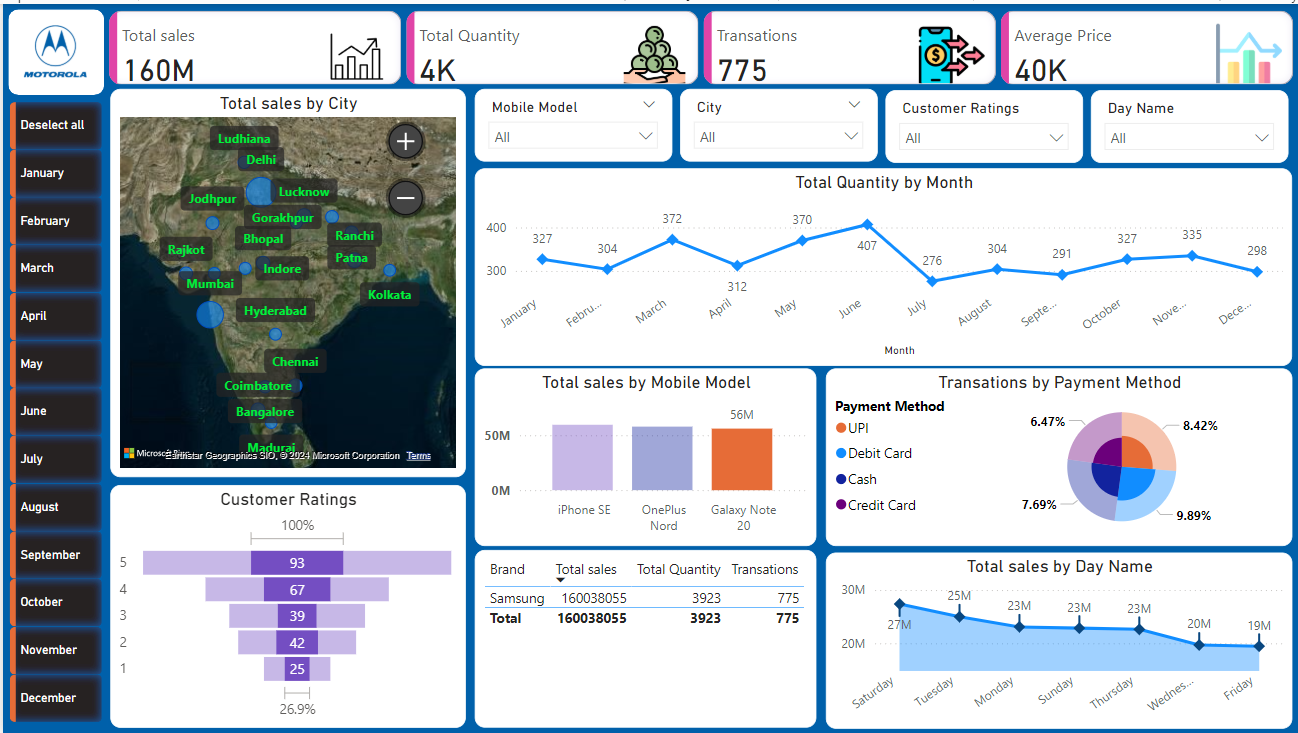

This screenshot's page, from the dashboard's own definition file:
{"tool":"powerbi","page":{"name":"Page 1","canvas":[1280,720],"ordinal":0},"visuals":[{"type":"advancedSlicerVisual","fields":{"Values":["Mobile sale data.Date.Variation.Date Hierarchy.Month"]},"box":[1.3,91.4,101.8,621.3],"z":0},{"type":"shape","box":[4.7,4.9,94.5,84.5],"z":500,"group":"g1"},{"type":"group","id":"g1","title":"Group 1","box":[4.7,4.9,95,85],"z":1000},{"type":"image","box":[12.5,9.9,77.5,72.5],"z":1000,"group":"g1"},{"type":"cardVisual","fields":{"Data":["Mobile_sale_data.Total sales","Mobile_sale_data.Total Quantity","Mobile_sale_data.Transations","Mobile_sale_data.Average Price"]},"box":[99.2,1.3,1180,83.5],"z":2000},{"type":"map","fields":{"Category":["Mobile_sale_data.City"],"Size":["Mobile_sale_data.Total sales"]},"box":[105.7,83.5,349.8,382.5],"z":3000},{"type":"lineChart","fields":{"Category":["Mobile_sale_data.Date.Variation.Date Hierarchy.Month","Mobile_sale_data.Date.Variation.Date Hierarchy.Day"],"Y":["Mobile_sale_data.Total Quantity"]},"box":[464.7,161.9,805.4,194.5],"z":4000},{"type":"clusteredColumnChart","fields":{"Category":["Mobile_sale_data.Mobile Model"],"Y":["Mobile_sale_data.Total sales"]},"box":[464.7,359,336.8,174.9],"z":5000},{"type":"pieChart","fields":{"Category":["Mobile_sale_data.Payment Method"],"Y":["Mobile_sale_data.Transations"]},"box":[810.6,359,459.5,174.9],"z":6000},{"type":"funnel","title":"Customer Ratings ","fields":{"Y":["CountNonNull(Mobile_sale_data.Customer Ratings)"],"Category":["Mobile_sale_data.Customer Ratings"]},"box":[105.7,473.8,349.8,238.9],"z":7000},{"type":"areaChart","fields":{"Category":["Mobile_sale_data.Day Name"],"Y":["Mobile_sale_data.Total sales"]},"box":[810.6,540.4,459.5,173.6],"z":8000},{"type":"tableEx","fields":{"Values":["Mobile_sale_data.Brand","Mobile_sale_data.Total sales","Mobile_sale_data.Total Quantity","Mobile_sale_data.Transations"]},"box":[464.7,537.8,336.8,174.9],"z":9000},{"type":"slicer","fields":{"Values":["Mobile_sale_data.Mobile Model"]},"box":[464.7,83.5,194.5,71.8],"z":9001},{"type":"slicer","fields":{"Values":["Mobile_sale_data.City"]},"box":[667,83.5,194.5,71.8],"z":9002},{"type":"slicer","fields":{"Values":["Mobile_sale_data.Customer Ratings"]},"box":[869.3,84.8,194.5,71.8],"z":9003},{"type":"slicer","fields":{"Values":["Mobile_sale_data.Day Name"]},"box":[1071.7,84.8,194.5,71.8],"z":9004}]}

Visuals, with their boxes in screenshot pixels (x1, y1, x2, y2), scaled from the page's 1280x720 canvas onto the 1298x733 screenshot:
advancedSlicerVisual - Mobile sale data.Date.Variation.Date Hierarchy.Month: crop(1, 93, 105, 726)
shape: crop(5, 5, 101, 91)
"Group 1" group: crop(5, 5, 101, 92)
image: crop(13, 10, 91, 84)
cardVisual - Mobile_sale_data.Total sales x Mobile_sale_data.Total Quantity: crop(101, 1, 1297, 86)
map - Mobile_sale_data.City x Mobile_sale_data.Total sales: crop(107, 85, 462, 474)
lineChart - Mobile_sale_data.Date.Variation.Date Hierarchy.Month x Mobile_sale_data.Date.Variation.Date Hierarchy.Day: crop(471, 165, 1288, 363)
clusteredColumnChart - Mobile_sale_data.Mobile Model x Mobile_sale_data.Total sales: crop(471, 365, 813, 544)
pieChart - Mobile_sale_data.Payment Method x Mobile_sale_data.Transations: crop(822, 365, 1288, 544)
"Customer Ratings " funnel: crop(107, 482, 462, 726)
areaChart - Mobile_sale_data.Day Name x Mobile_sale_data.Total sales: crop(822, 550, 1288, 727)
tableEx - Mobile_sale_data.Brand x Mobile_sale_data.Total sales: crop(471, 548, 813, 726)
slicer - Mobile_sale_data.Mobile Model: crop(471, 85, 668, 158)
slicer - Mobile_sale_data.City: crop(676, 85, 874, 158)
slicer - Mobile_sale_data.Customer Ratings: crop(882, 86, 1079, 159)
slicer - Mobile_sale_data.Day Name: crop(1087, 86, 1284, 159)
